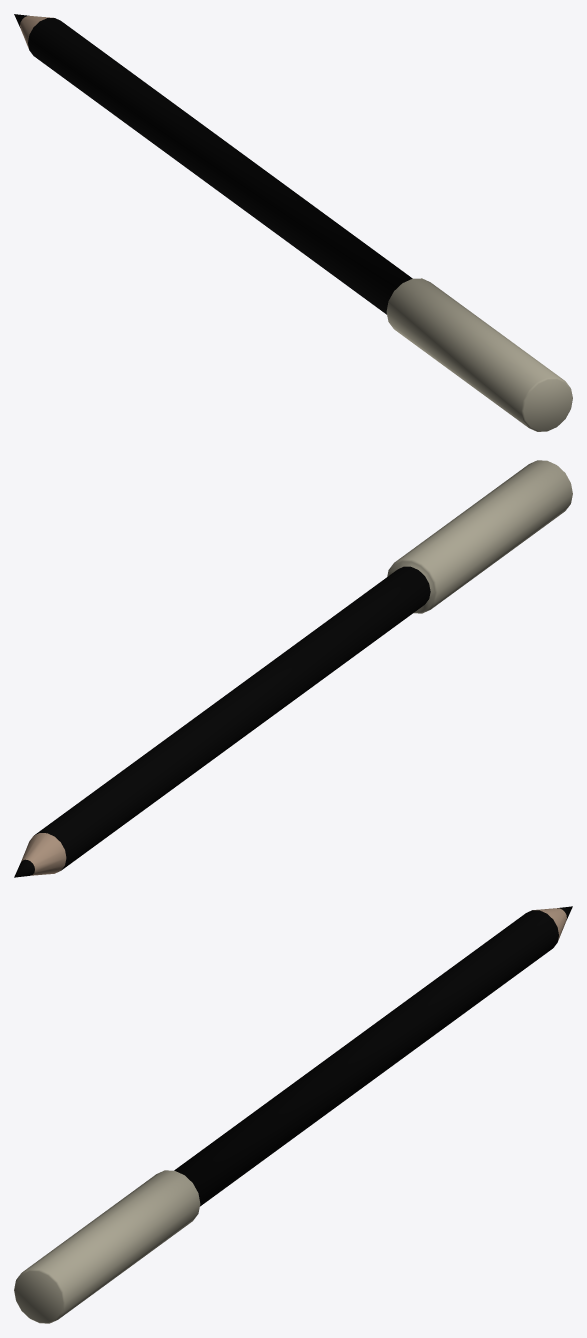
The model's file is Pencil_01.fbx.
3 views of the same model, one above another, from view 1: azimuth 30°, elevation 25°; view 2: azimuth 150°, elevation 25°; view 3: azimuth 330°, elevation 25° (orthographic).
Visible parts, largest first — view 1: CR_Pencil_01; view 2: CR_Pencil_01; view 3: CR_Pencil_01.
Boxes of the visible parts, left/top/right/bottom form: CR_Pencil_01: left=14, top=14, right=572, bottom=431; CR_Pencil_01: left=14, top=460, right=572, bottom=877; CR_Pencil_01: left=14, top=906, right=572, bottom=1323.
Size of the model in its own units: 0.00731 by 0.00729 by 0.1307.
